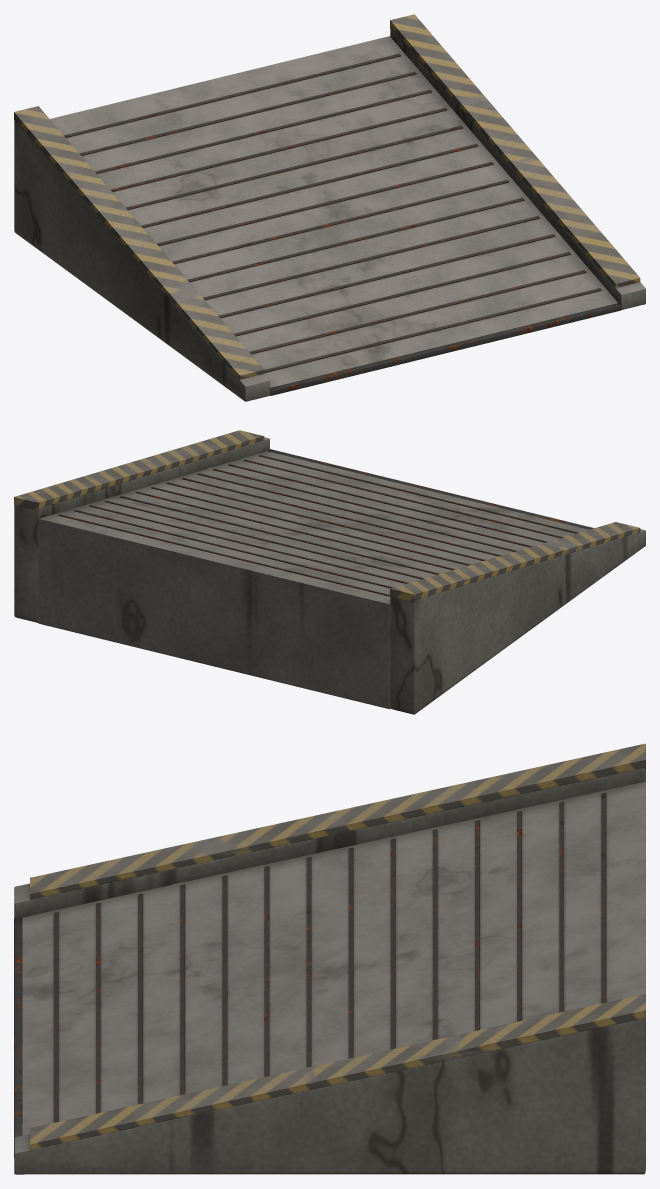
File: ramp.fbx
The picture shows the model from 3 angles, top to bottom: view 1: azimuth 30°, elevation 25°; view 2: azimuth 150°, elevation 25°; view 3: azimuth 270°, elevation 25°; orthographic projection. The views are drawn at different scales.
Visible parts, largest first — view 1: Body; view 2: Body; view 3: Body.
Part boxes in pixels (x1,y1,x2,y2): Body: (14,14,645,401); Body: (14,430,645,714); Body: (14,743,645,1174).
Bounding box in the file's own units: 16 × 4.6 × 16.01.
1 material, 1 textured.
